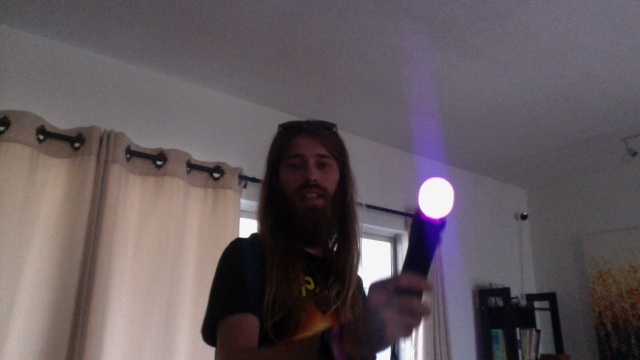wand: (419, 177, 454, 219)
